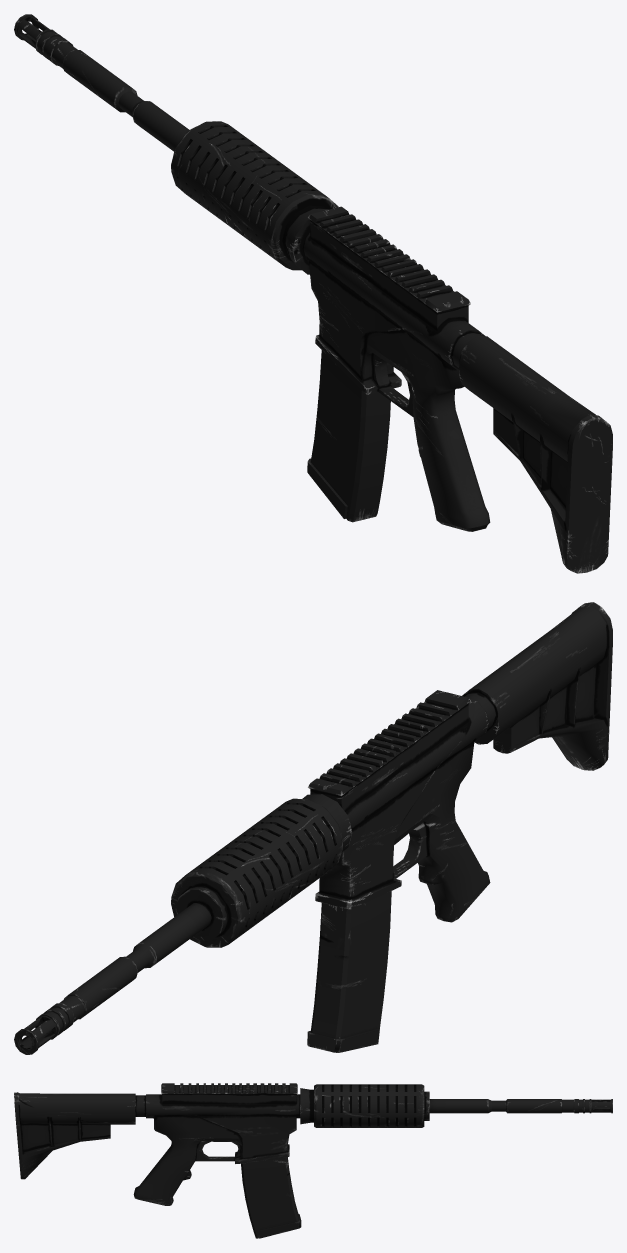
Rendered from Rifle.glb.
3 renders of one model, top to bottom at view 1: azimuth 30°, elevation 25°; view 2: azimuth 150°, elevation 25°; view 3: azimuth 270°, elevation 25°, orthographic. The views are drawn at different scales.
Parts seen in each view (by area): view 1: Rifle; view 2: Rifle; view 3: Rifle.
Boxes of the visible parts, box(x1,y1,x2,y2) form: Rifle: box(14, 14, 612, 573); Rifle: box(14, 602, 612, 1054); Rifle: box(14, 1083, 612, 1238).
Bounding box in the file's own units: 0.0691 × 0.2637 × 0.9608.
1 material, 1 textured.
